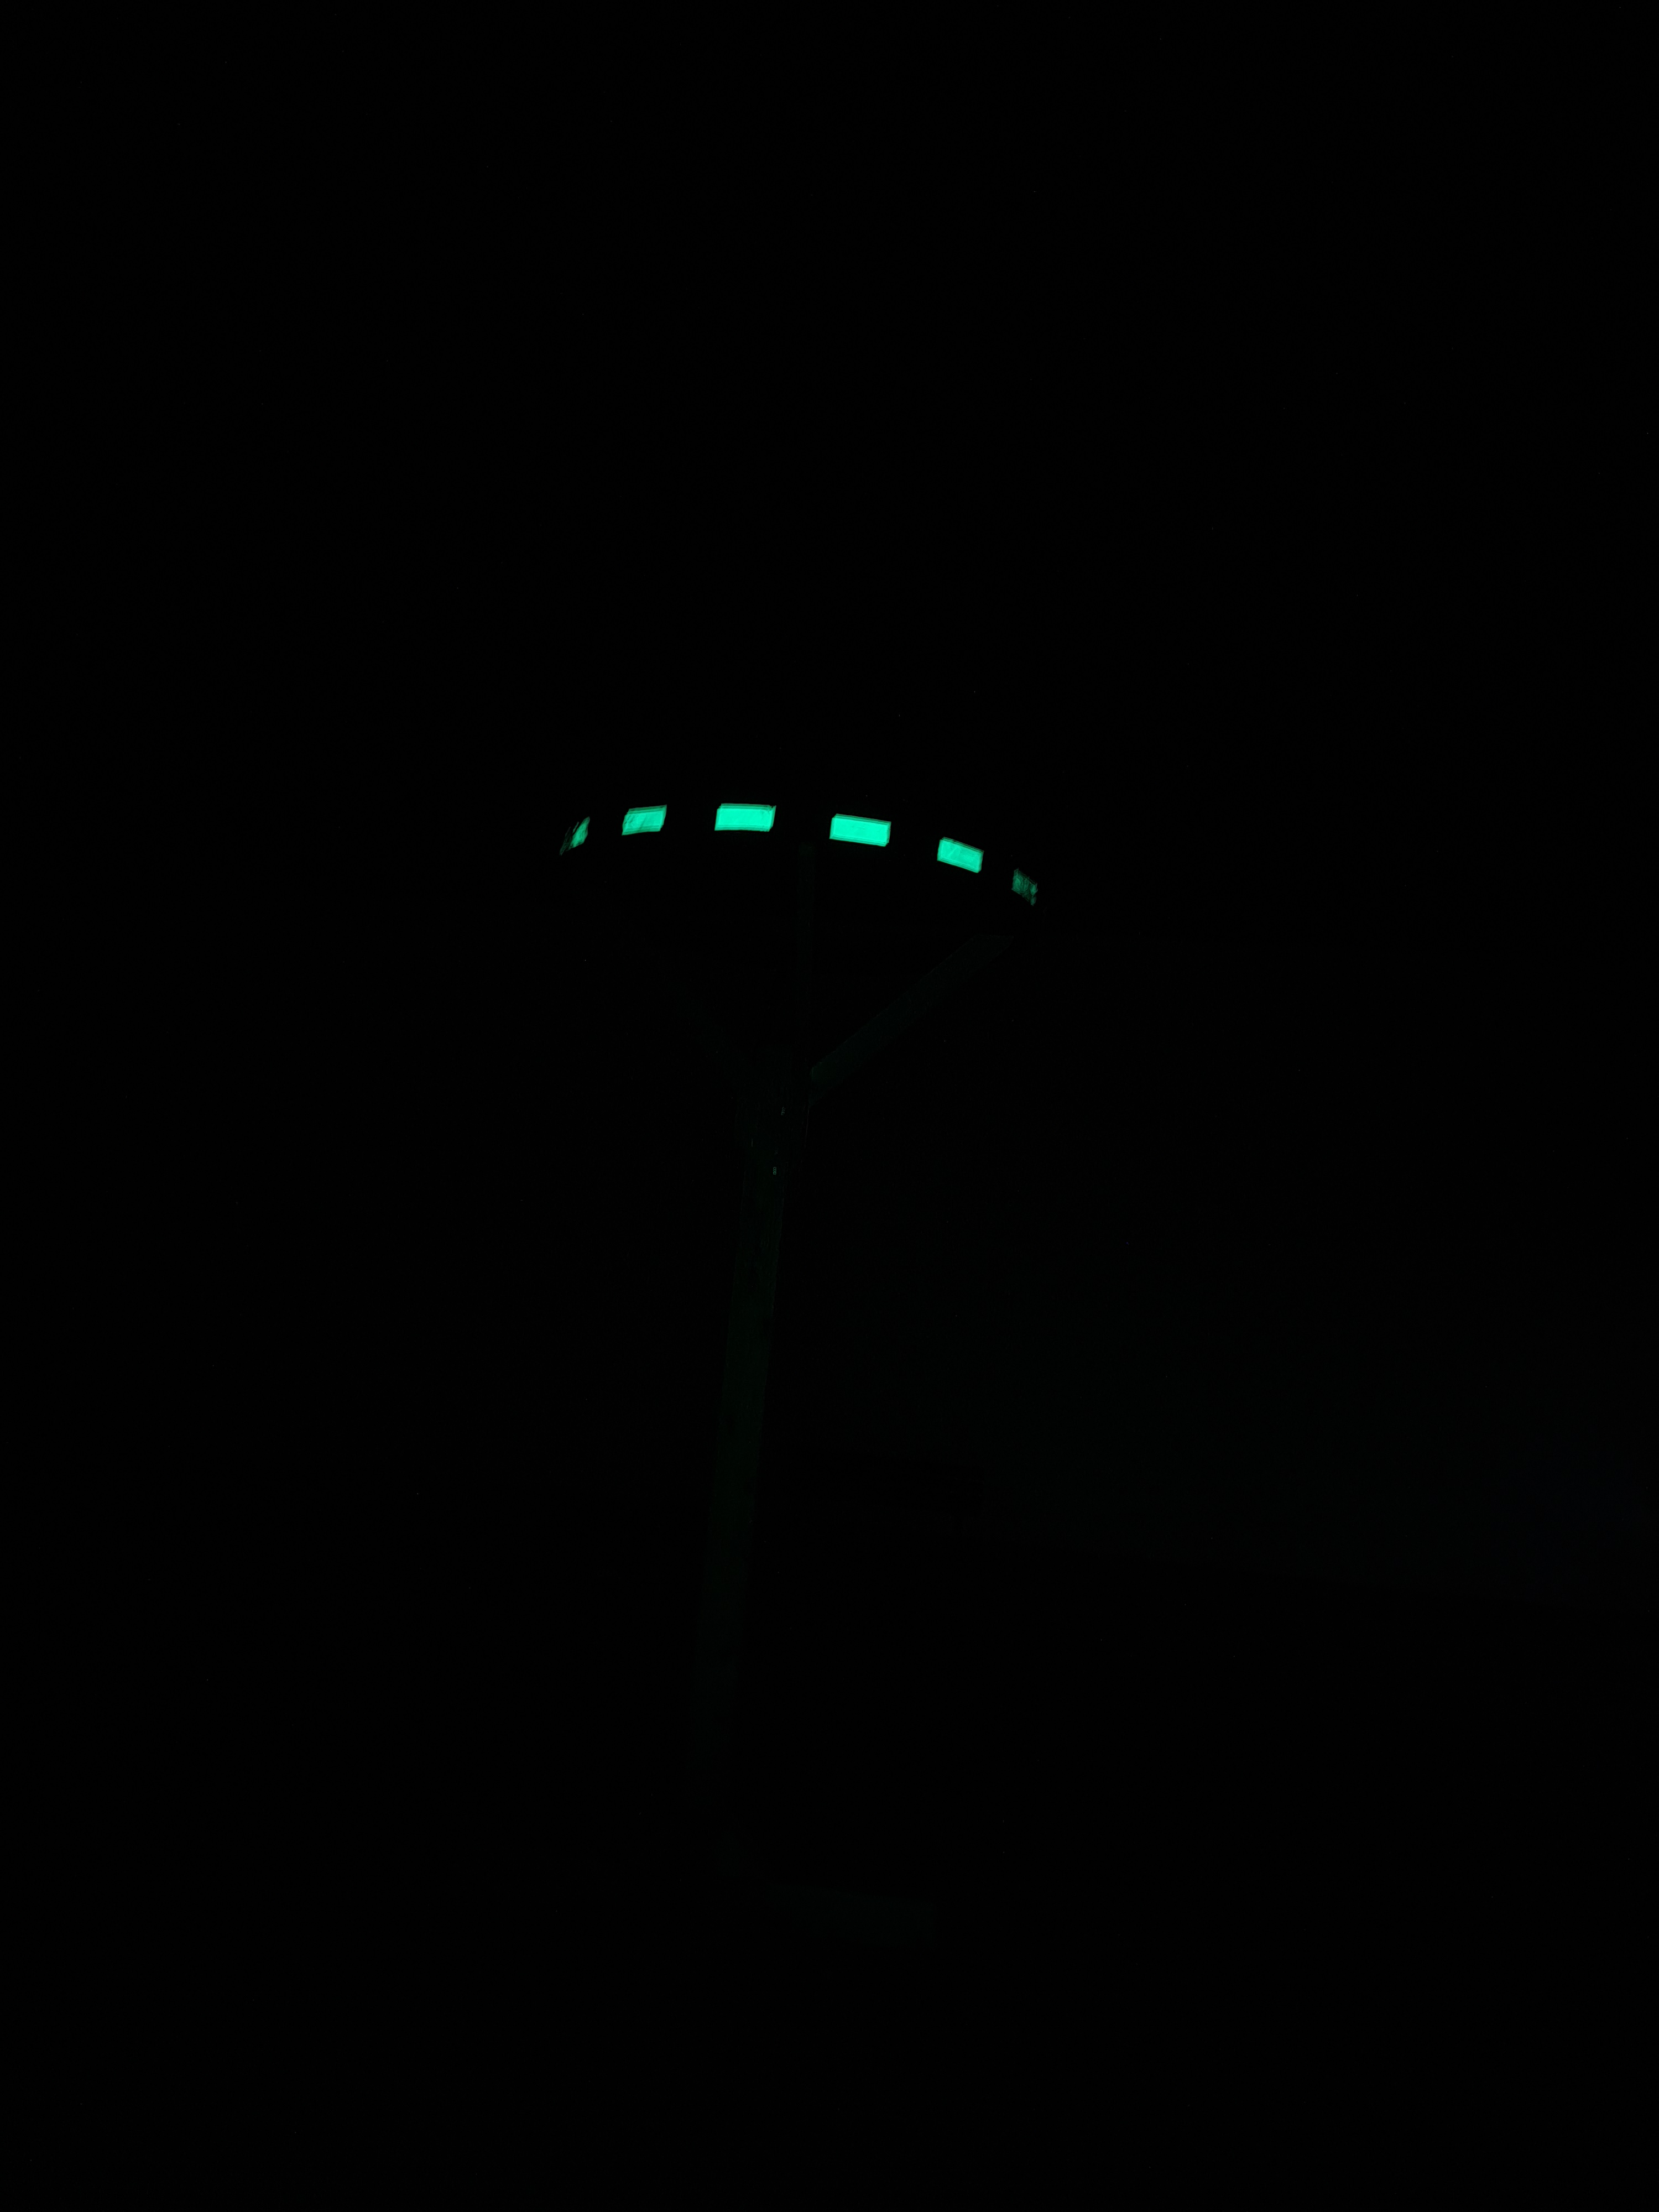hoop: (559, 798, 1040, 914)
